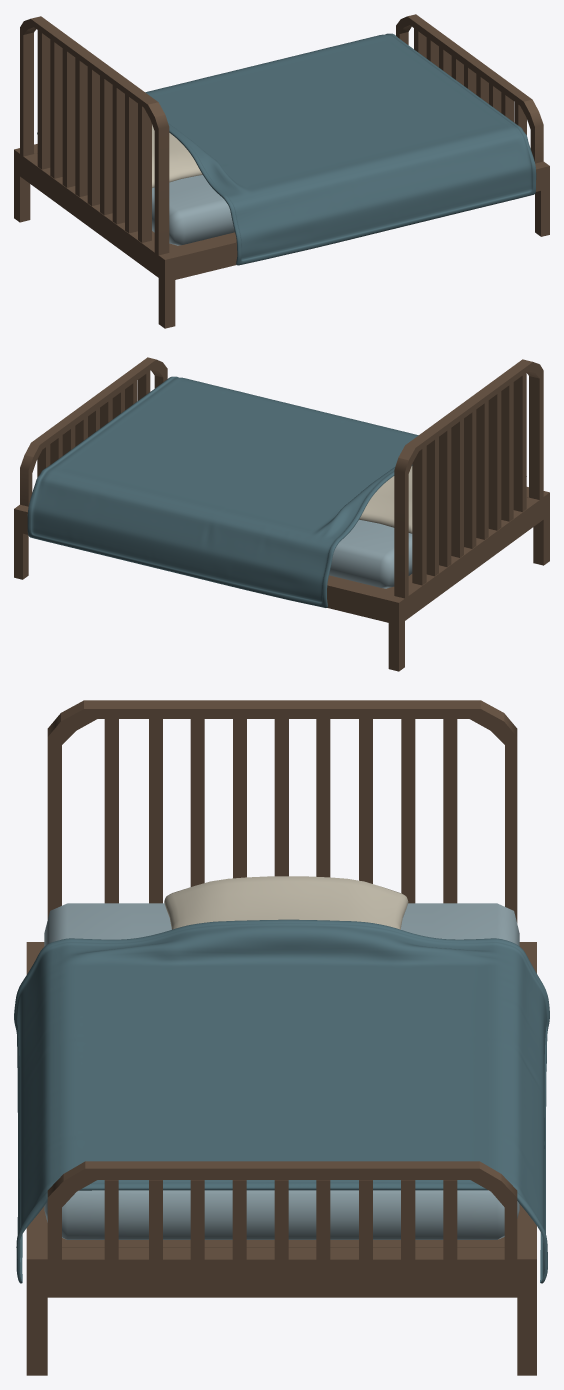
File: Bed.fbx
3 renders of one model, top to bottom at view 1: azimuth 30°, elevation 25°; view 2: azimuth 150°, elevation 25°; view 3: azimuth 270°, elevation 25°, orthographic. The views are drawn at different scales.
Visible parts, largest first — view 1: pCube72; view 2: pCube72; view 3: pCube72.
Boxes of the visible parts, bbox=[...] form: pCube72: bbox=[14, 14, 549, 328]; pCube72: bbox=[14, 357, 549, 671]; pCube72: bbox=[14, 700, 549, 1375].
Size of the model in its own units: 17.83 by 9.36 by 12.71.
